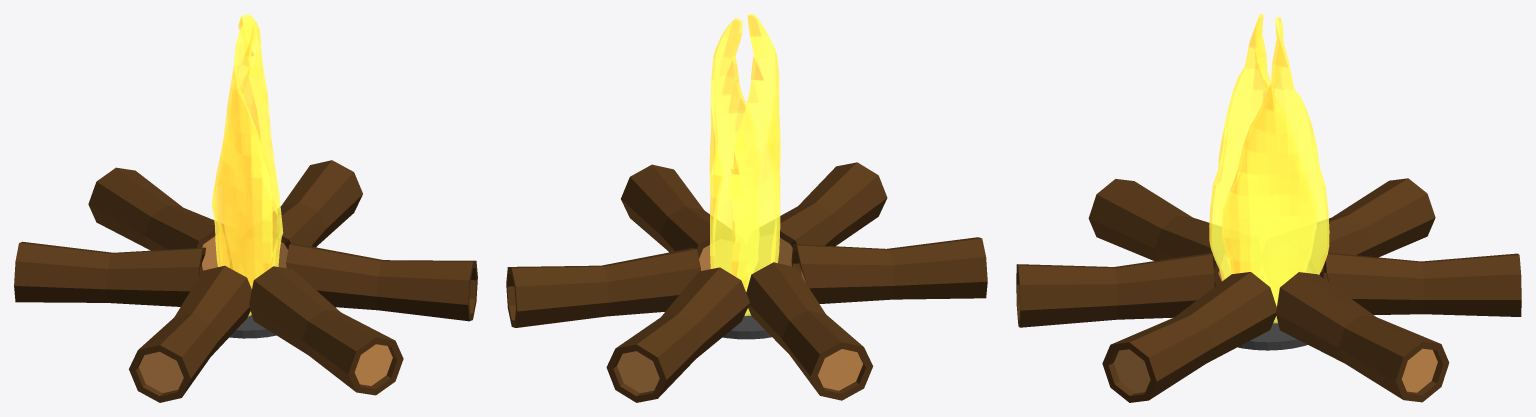
Rendered from campFire.fbx.
3 renders of one model, left to right at view 1: azimuth 30°, elevation 25°; view 2: azimuth 150°, elevation 25°; view 3: azimuth 270°, elevation 25°, orthographic. The views are drawn at different scales.
Visible parts, largest first — view 1: Tronco 5, Tronco 3, Fuego, Tronco 2, Tronco 1, Tronco 4.001, Tronco 4, Fuego_3_0.001, Circle; view 2: Tronco 1, Tronco 4, Fuego, Tronco 4.001, Tronco 5, Fuego_3_0.001, Tronco 2, Tronco 3, Circle; view 3: Fuego_3_0.001, Tronco 3, Tronco 4, Tronco 2, Tronco 4.001, Tronco 1, Tronco 5, Fuego, Circle.
Boxes of the visible parts, x1,y1,x2,y2 form: Tronco 5: (14,241,205,306); Tronco 3: (286,243,477,321); Fuego: (212,22,272,316); Tronco 2: (249,266,403,395); Tronco 1: (129,265,251,402); Tronco 4.001: (88,167,217,270); Tronco 4: (278,160,362,268); Fuego_3_0.001: (238,14,283,267); Circle: (229,314,276,338); Tronco 1: (791,237,987,303); Tronco 4: (506,248,700,327); Fuego: (729,14,780,315); Tronco 4.001: (606,267,749,402); Tronco 5: (746,262,873,400); Fuego_3_0.001: (709,18,746,273); Tronco 2: (778,162,887,266); Tronco 3: (621,164,710,270); Circle: (722,314,771,339); Fuego_3_0.001: (1222,17,1329,323); Tronco 3: (1102,272,1276,402); Tronco 4: (1276,272,1449,402); Tronco 2: (1016,253,1214,327); Tronco 4.001: (1323,252,1521,316); Tronco 1: (1088,179,1222,286); Tronco 5: (1319,178,1435,278); Fuego: (1209,14,1270,280); Circle: (1238,321,1307,350).
Size of the model in its own units: 1543 by 1206 by 1806.
